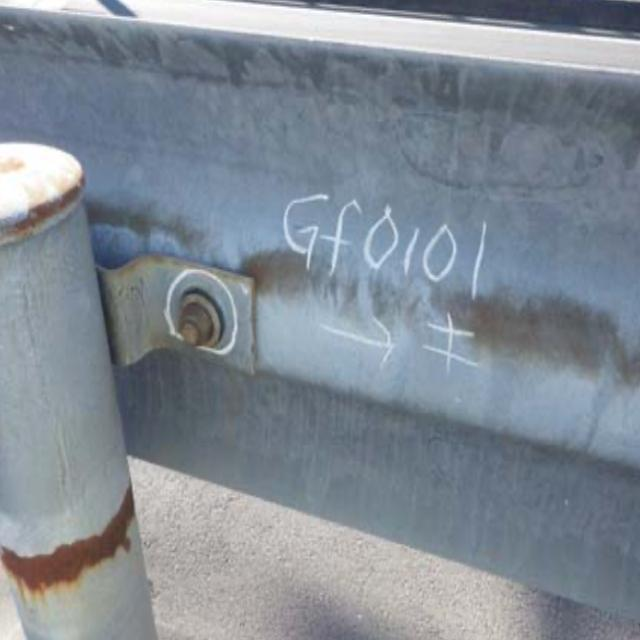corrosion: (5, 500, 148, 600)
